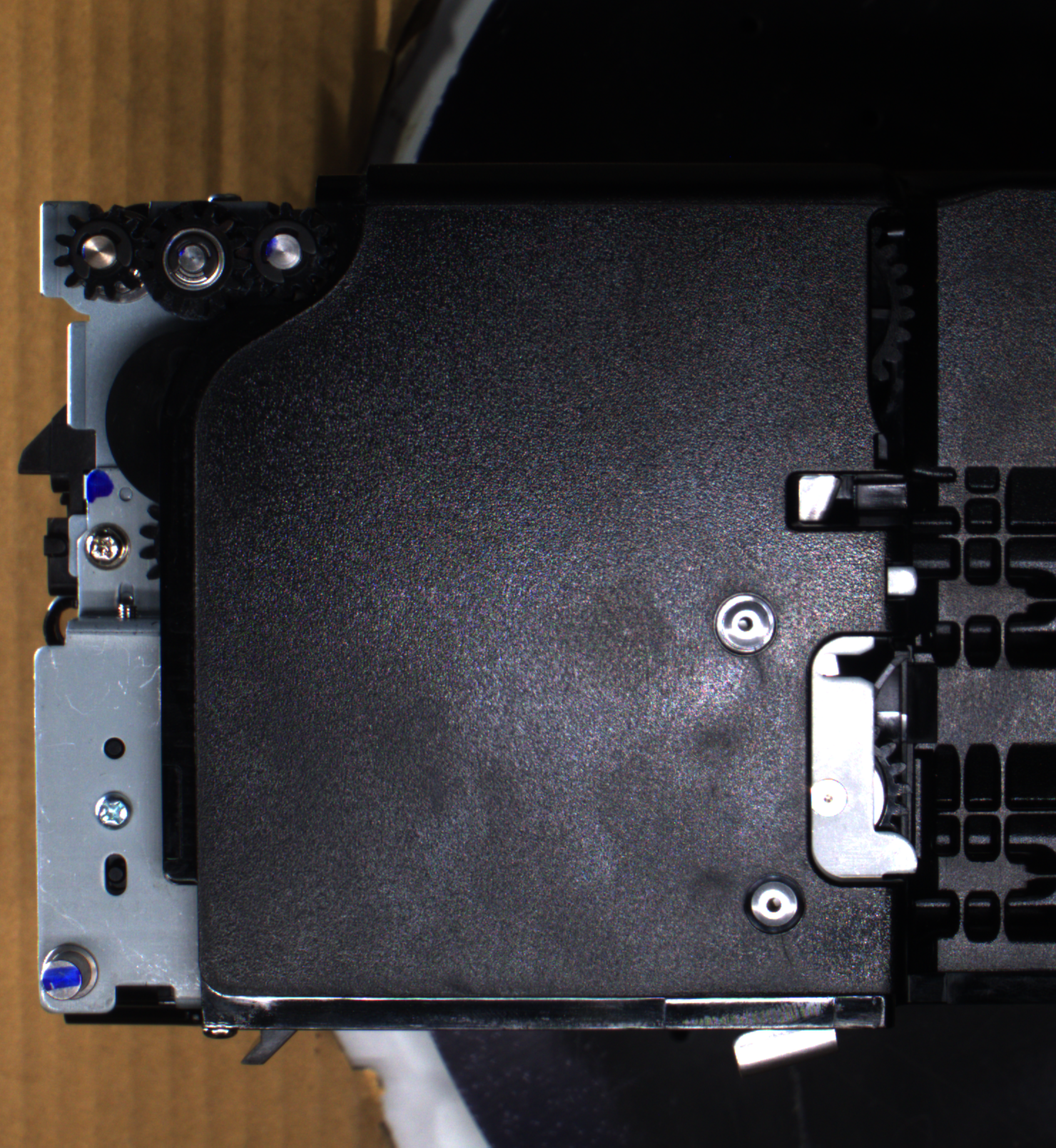centre_pin_presence: (725, 1013, 842, 1076)
centre_plate_presence: (801, 625, 929, 891)
centre_screw_presence: (709, 586, 782, 663), (737, 866, 810, 939)
gear1_presence: (52, 201, 153, 307)
gear2_presence: (137, 200, 251, 320)
gear3_presence: (234, 202, 333, 304)
side_screw_presence: (80, 520, 133, 571), (90, 789, 135, 831)
slanting_pin_presence: (35, 938, 107, 1010)
